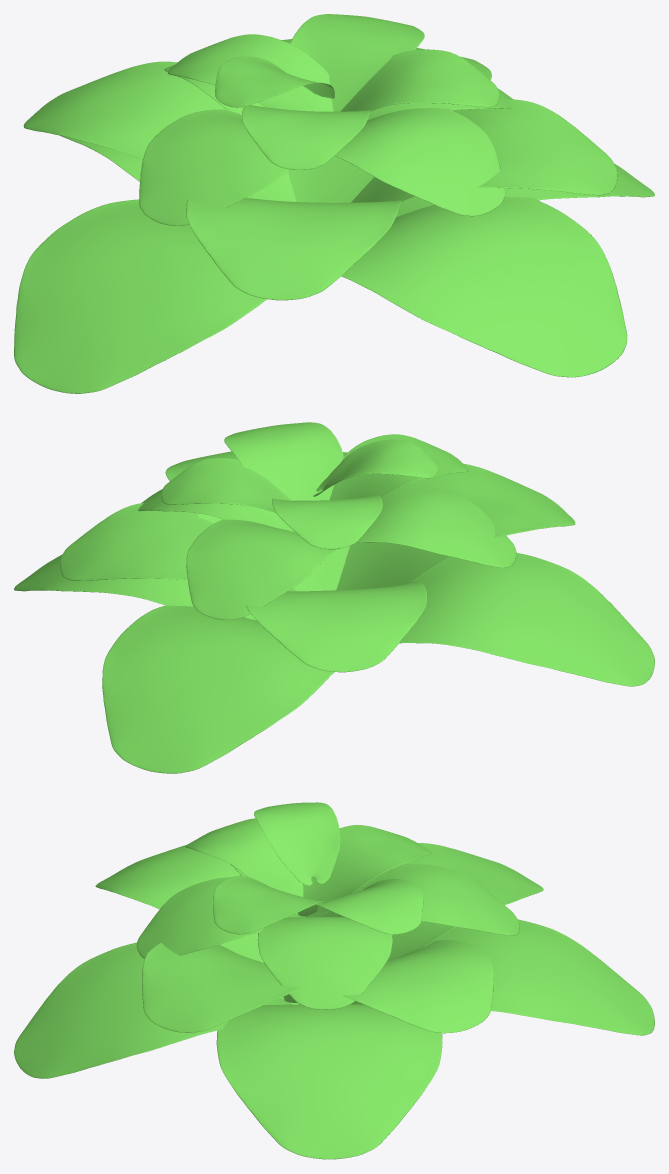
File: BannanaTreeSmall.fbx
The picture shows the model from 3 angles, top to bottom: view 1: azimuth 30°, elevation 25°; view 2: azimuth 150°, elevation 25°; view 3: azimuth 270°, elevation 25°; orthographic projection. The views are drawn at different scales.
Visible parts, largest first — view 1: Leaf0.004, Leaf0.002, Leaf0.006, Leaf0.012, Leaf0.010, Leaf0.007, Leaf0.008, Leaf0.013, Leaf0.016, Leaf0.014, Leaf0.015, Leaf0.017 (+4 smaller); view 2: Leaf0.003, Leaf0.002, Leaf0.007, Leaf0.011, Leaf0.006, Leaf0.005, Leaf0.010, Leaf0.016, Leaf0.013, Leaf0.015, Leaf0.001, Leaf0.017 (+3 smaller); view 3: Leaf0.001, Leaf0.004, Leaf0.003, Leaf0.008, Leaf0.005, Leaf0.009, Leaf0.011, Leaf0.006, Leaf0.017, Leaf0.015, Leaf0.012, Leaf0.007 (+3 smaller).
Boxes of the visible parts, x1=… form: Leaf0.004: x1=341, y1=197, x2=627, y2=377; Leaf0.002: x1=14, y1=199, x2=266, y2=393; Leaf0.006: x1=186, y1=198, x2=401, y2=300; Leaf0.012: x1=335, y1=108, x2=505, y2=216; Leaf0.010: x1=139, y1=109, x2=290, y2=225; Leaf0.007: x1=23, y1=61, x2=296, y2=201; Leaf0.008: x1=351, y1=99, x2=617, y2=202; Leaf0.013: x1=290, y1=14, x2=424, y2=111; Leaf0.016: x1=340, y1=49, x2=499, y2=111; Leaf0.014: x1=242, y1=105, x2=370, y2=169; Leaf0.015: x1=168, y1=34, x2=333, y2=111; Leaf0.017: x1=215, y1=56, x2=334, y2=107; Leaf0.003: x1=102, y1=605, x2=334, y2=773; Leaf0.002: x1=399, y1=553, x2=654, y2=686; Leaf0.007: x1=246, y1=581, x2=427, y2=672; Leaf0.011: x1=186, y1=519, x2=339, y2=619; Leaf0.006: x1=336, y1=464, x2=575, y2=590; Leaf0.005: x1=60, y1=503, x2=296, y2=591; Leaf0.010: x1=356, y1=485, x2=516, y2=567; Leaf0.016: x1=224, y1=422, x2=343, y2=500; Leaf0.013: x1=161, y1=457, x2=291, y2=512; Leaf0.015: x1=272, y1=495, x2=382, y2=549; Leaf0.001: x1=14, y1=554, x2=256, y2=620; Leaf0.017: x1=313, y1=439, x2=438, y2=496; Leaf0.001: x1=216, y1=1004, x2=442, y2=1159; Leaf0.004: x1=14, y1=942, x2=292, y2=1078; Leaf0.003: x1=353, y1=919, x2=654, y2=1035; Leaf0.008: x1=142, y1=942, x2=353, y2=1032; Leaf0.005: x1=283, y1=940, x2=493, y2=1033; Leaf0.009: x1=257, y1=917, x2=392, y2=1009; Leaf0.011: x1=339, y1=864, x2=519, y2=935; Leaf0.006: x1=95, y1=845, x2=299, y2=1004; Leaf0.017: x1=254, y1=802, x2=340, y2=885; Leaf0.015: x1=303, y1=825, x2=431, y2=917; Leaf0.012: x1=136, y1=877, x2=302, y2=958; Leaf0.007: x1=387, y1=843, x2=543, y2=960.
Size of the model in its own units: 607 by 202 by 607.
